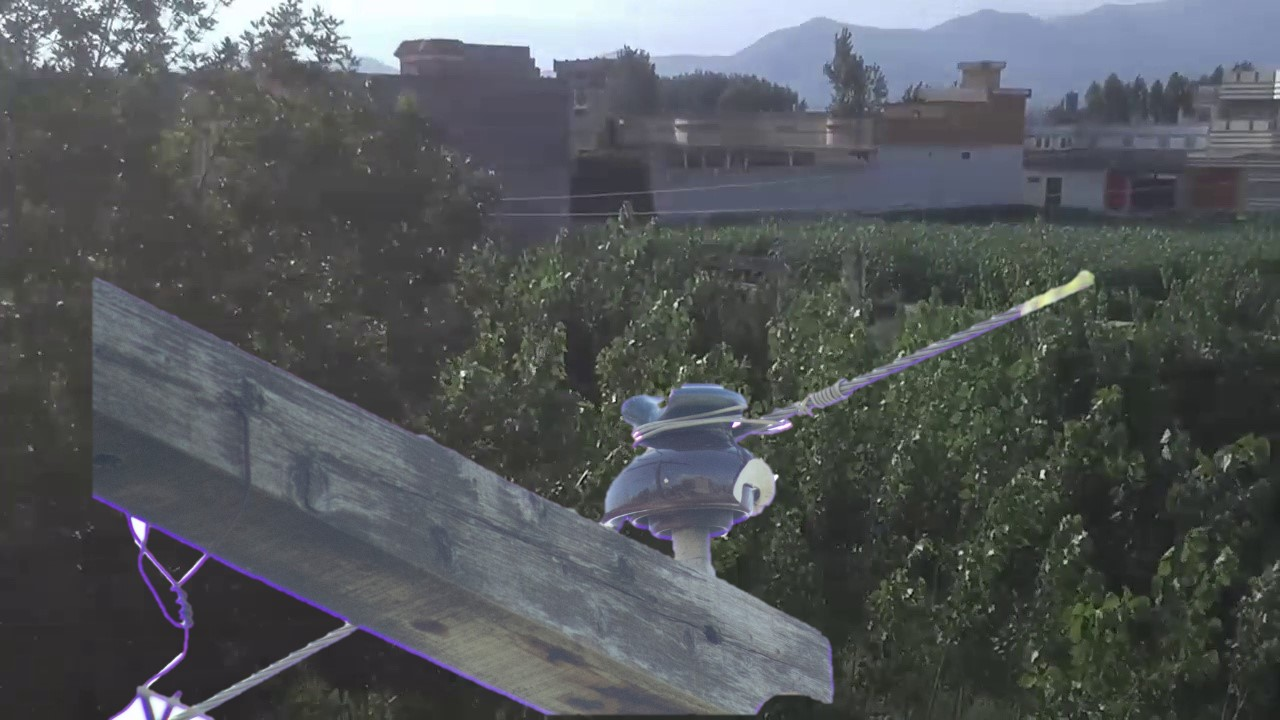defect_pin: (599, 373, 784, 541)
